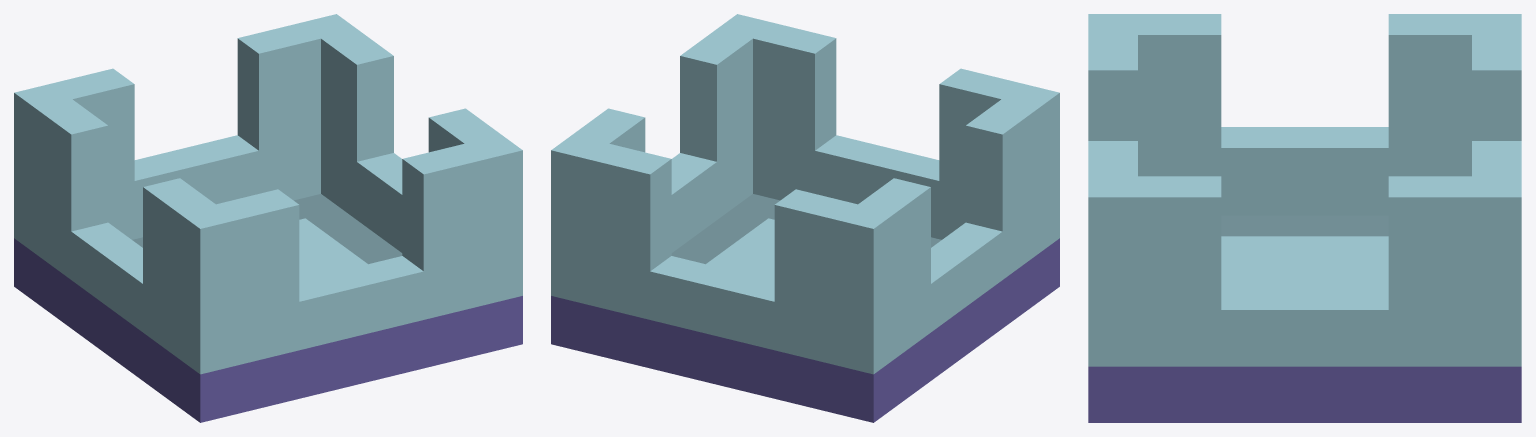
The model's file is towerSquare_middleC.dae.
3 views of the same model, side by side, from view 1: azimuth 30°, elevation 25°; view 2: azimuth 150°, elevation 25°; view 3: azimuth 270°, elevation 25° (orthographic). The views are drawn at different scales.
Parts seen in each view (by area): view 1: towerSquare_middleC; view 2: towerSquare_middleC; view 3: towerSquare_middleC.
Part boxes in pixels (x1=…): towerSquare_middleC: x1=14, y1=14, x2=522, y2=422; towerSquare_middleC: x1=551, y1=14, x2=1059, y2=422; towerSquare_middleC: x1=1088, y1=14, x2=1521, y2=422.
Bounding box in the file's own units: 0.87 × 0.5 × 0.87.
